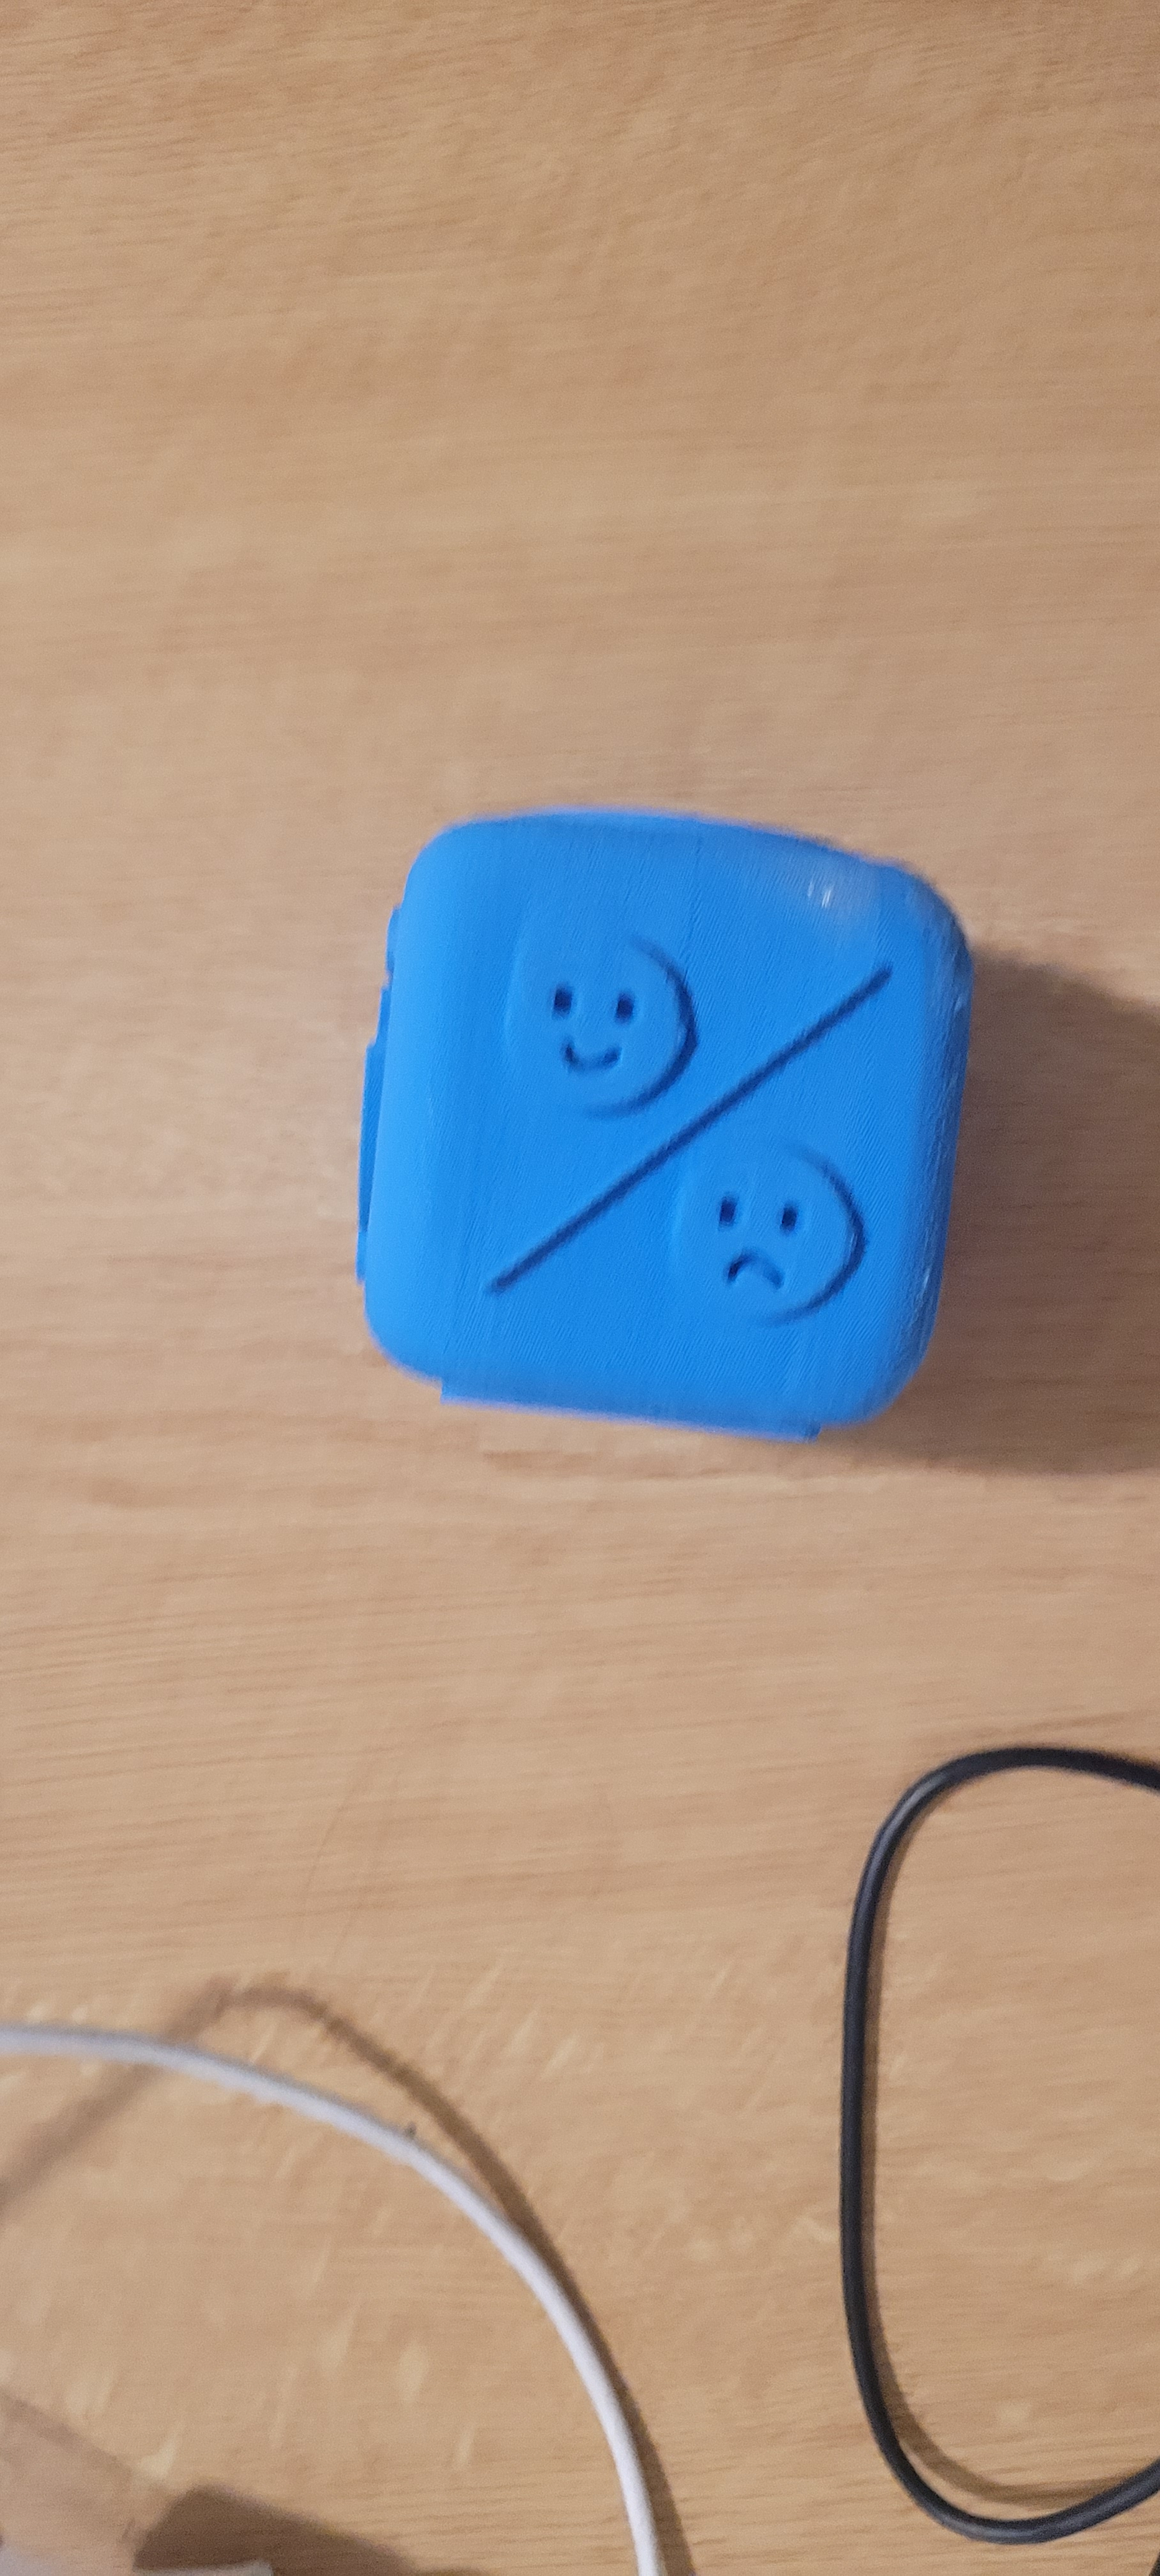Like/Dislike: (411, 792, 973, 1391)
